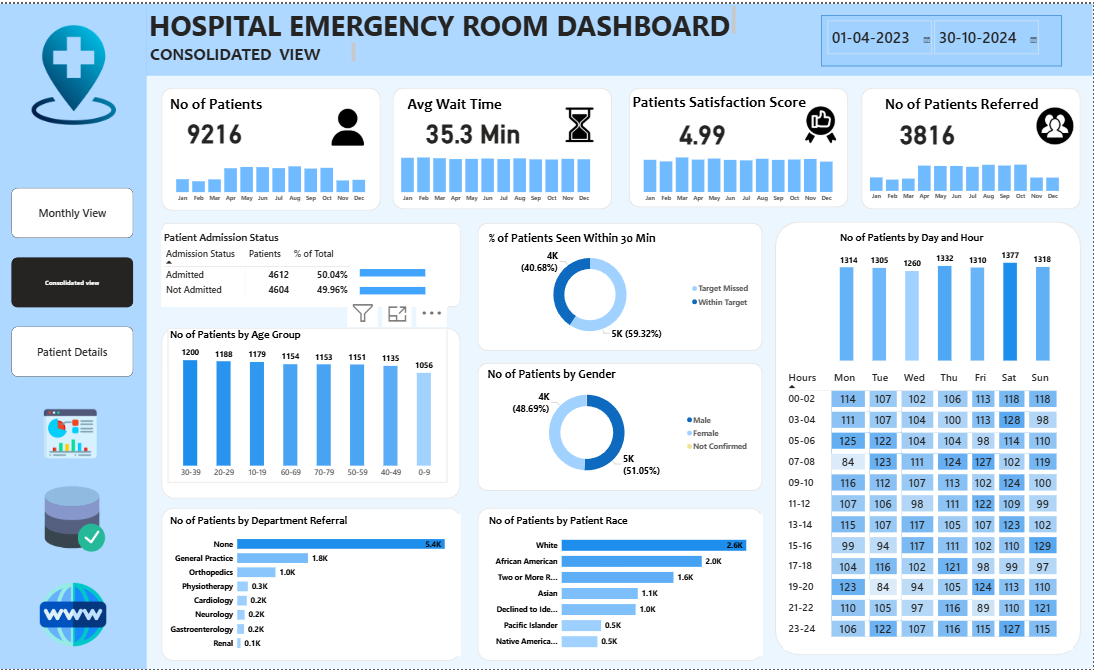

The page's visual inventory and layout, read from the dashboard file:
{"tool":"powerbi","page":{"name":"Consolidated view","canvas":[2300,1400],"ordinal":1},"visuals":[{"type":"shape","box":[338.8,461.2,630.6,177.6],"z":0},{"type":"shape","box":[338.8,175.5,462,259],"z":1000},{"type":"card","fields":{"Values":["Hospital ER_Data.No of Patients"]},"box":[298,206.1,308.2,124.5],"z":2000},{"type":"shape","box":[0,0,309.1,1400.7],"z":3000},{"type":"shape","box":[308.2,0,1991.8,151],"z":4000},{"type":"textbox","box":[309.1,0,1245.9,76.1],"z":5000},{"type":"textbox","box":[310,77.5,442.5,52.5],"z":6000},{"type":"slicer","fields":{"Values":["Date Table.Date"]},"box":[1728.6,23.8,506.5,107],"z":7000},{"type":"textbox","box":[353.1,187.8,334.7,53.1],"z":9000},{"type":"columnChart","fields":{"Category":["Date Table.Month Name"],"Y":["Hospital ER_Data.No of Patients"]},"box":[351.9,302,435.1,123.6],"z":10000},{"type":"shape","box":[827.2,176,462,256],"z":12000},{"type":"shape","box":[1324,176,462,252],"z":13000},{"type":"shape","box":[1814,176,462,256],"z":14000},{"type":"textbox","box":[851.7,187.5,382.5,80],"z":15000},{"type":"columnChart","fields":{"Category":["Date Table.Month Name"],"Y":["Avg(Hospital ER_Data.Patient Waittime)"]},"box":[827.5,302,435.1,123.6],"z":16000},{"type":"columnChart","fields":{"Category":["Date Table.Month Name"],"Y":["Hospital ER_Data.Satisfaction Score"]},"box":[1336.3,299.6,435.1,126],"z":17000},{"type":"columnChart","fields":{"Category":["Date Table.Month Name"],"Y":["Hospital ER_Data.No of Patients Referred"]},"box":[1814.2,299.6,435.1,123.6],"z":18000},{"type":"textbox","box":[1327.5,182.5,400,52.5],"z":19000},{"type":"textbox","box":[1857.5,187.5,405,52.5],"z":20000},{"type":"card","fields":{"Values":["Hospital ER_Data.Avg Wait Time"]},"box":[842.5,205,307.5,122.5],"z":21000},{"type":"card","fields":{"Values":["Hospital ER_Data.Satisfaction Score"]},"box":[1324.7,208.2,310,122.5],"z":22000},{"type":"card","fields":{"Values":["Hospital ER_Data.No of Patients Referred"]},"box":[1797.5,207.5,310,122.5],"z":23000},{"type":"pivotTable","title":"Patient Admission Status","fields":{"Rows":["Hospital ER_Data.Admission Status"],"Values":["Hospital ER_Data.No of Patients1","Hospital ER_Data.No of Patients"]},"box":[338.8,477.6,604.1,161.2],"z":24000},{"type":"barChart","fields":{"Y":["Hospital ER_Data.No of Patients"],"Category":["Hospital ER_Data.Admission Status"]},"box":[753.1,526.5,189.8,112.2],"z":25000},{"type":"shape","box":[340,682.5,630,360],"z":26000},{"type":"clusteredColumnChart","fields":{"Category":["Hospital ER_Data.Age Group"],"Y":["Hospital ER_Data.No of Patients"]},"box":[353.1,681.6,589.8,326.5],"z":27000},{"type":"shape","box":[1005,460,600,270],"z":28000},{"type":"donutChart","title":"% of Patients Seen Within 30 Min","fields":{"Category":["Hospital ER_Data.Waittime Status"],"Y":["Hospital ER_Data.No of Patients"]},"box":[1022.5,475,565,240],"z":29000},{"type":"shape","box":[1005,755,600,270],"z":30000},{"type":"donutChart","title":"No of Patients by Gender","fields":{"Y":["Hospital ER_Data.No of Patients"],"Category":["Hospital ER_Data.Patient Gender"]},"box":[1020,763.3,565.9,247.3],"z":31000},{"type":"shape","box":[340,1060,630,322.5],"z":32000},{"type":"clusteredBarChart","fields":{"Y":["Hospital ER_Data.No of Patients"],"Category":["Hospital ER_Data.Department Referral"]},"box":[352.5,1072.5,617.5,300],"z":33000},{"type":"shape","box":[1005,1060,600,322.5],"z":34000},{"type":"clusteredBarChart","fields":{"Y":["Hospital ER_Data.No of Patients"],"Category":["Hospital ER_Data.Patient Race"]},"box":[1022.5,1072.5,582.5,300],"z":35000},{"type":"shape","box":[1631.1,458.9,644.4,913],"z":36000},{"type":"pivotTable","fields":{"Rows":["Hospital ER_Data.Waittime Interval"],"Columns":["Date Table.Day Name"],"Values":["Hospital ER_Data.No of Patients"]},"box":[1650.1,763.3,608.7,596.8],"z":37000},{"type":"columnChart","title":"No of Patients by Day and Hour","fields":{"Category":["Date Table.Day Name"],"Y":["Hospital ER_Data.No of Patients"]},"box":[1764.3,475.5,454.1,280.6],"z":38000},{"type":"image","box":[5,40,300,220],"z":39000},{"type":"pageNavigator","box":[22.5,387.5,257.5,400],"z":39001},{"type":"image","box":[32.5,845,232.5,120],"z":39002},{"type":"image","box":[80,1010,157.5,147.5],"z":39003},{"type":"image","box":[80,1210,150,150],"z":39004},{"type":"image","box":[2142.5,212.5,157.5,87.5],"z":39006},{"type":"image","box":[1647.5,210,160,87.5],"z":39007},{"type":"image","box":[1180,212.5,82.5,82.5],"z":39008},{"type":"image","box":[687.5,215,90,87.5],"z":39009}]}

Visuals, with their boxes in screenshot pixels (x1, y1, x2, y2), scaled from the page's 2300x1400 canvas onto the 1094x670 screenshot:
shape: x1=161, y1=221, x2=461, y2=306
shape: x1=161, y1=84, x2=381, y2=208
card - Hospital ER_Data.No of Patients: x1=142, y1=99, x2=288, y2=158
shape: x1=0, y1=0, x2=147, y2=669
shape: x1=147, y1=0, x2=1093, y2=72
textbox: x1=147, y1=0, x2=740, y2=36
textbox: x1=147, y1=37, x2=358, y2=62
slicer - Date Table.Date: x1=822, y1=11, x2=1063, y2=63
textbox: x1=168, y1=90, x2=327, y2=115
columnChart - Date Table.Month Name x Hospital ER_Data.No of Patients: x1=167, y1=145, x2=374, y2=204
shape: x1=393, y1=84, x2=613, y2=207
shape: x1=630, y1=84, x2=850, y2=205
shape: x1=863, y1=84, x2=1083, y2=207
textbox: x1=405, y1=90, x2=587, y2=128
columnChart - Date Table.Month Name x Avg(Hospital ER_Data.Patient Waittime): x1=394, y1=145, x2=601, y2=204
columnChart - Date Table.Month Name x Hospital ER_Data.Satisfaction Score: x1=636, y1=143, x2=843, y2=204
columnChart - Date Table.Month Name x Hospital ER_Data.No of Patients Referred: x1=863, y1=143, x2=1070, y2=203
textbox: x1=631, y1=87, x2=822, y2=112
textbox: x1=884, y1=90, x2=1076, y2=115
card - Hospital ER_Data.Avg Wait Time: x1=401, y1=98, x2=547, y2=157
card - Hospital ER_Data.Satisfaction Score: x1=630, y1=100, x2=778, y2=158
card - Hospital ER_Data.No of Patients Referred: x1=855, y1=99, x2=1002, y2=158
"Patient Admission Status" pivotTable: x1=161, y1=229, x2=448, y2=306
barChart - Hospital ER_Data.No of Patients x Hospital ER_Data.Admission Status: x1=358, y1=252, x2=448, y2=306
shape: x1=162, y1=327, x2=461, y2=499
clusteredColumnChart - Hospital ER_Data.Age Group x Hospital ER_Data.No of Patients: x1=168, y1=326, x2=448, y2=482
shape: x1=478, y1=220, x2=763, y2=349
"% of Patients Seen Within 30 Min" donutChart: x1=486, y1=227, x2=755, y2=342
shape: x1=478, y1=361, x2=763, y2=491
"No of Patients by Gender" donutChart: x1=485, y1=365, x2=754, y2=484
shape: x1=162, y1=507, x2=461, y2=662
clusteredBarChart - Hospital ER_Data.No of Patients x Hospital ER_Data.Department Referral: x1=168, y1=513, x2=461, y2=657
shape: x1=478, y1=507, x2=763, y2=662
clusteredBarChart - Hospital ER_Data.No of Patients x Hospital ER_Data.Patient Race: x1=486, y1=513, x2=763, y2=657
shape: x1=776, y1=220, x2=1082, y2=657
pivotTable - Hospital ER_Data.Waittime Interval x Date Table.Day Name: x1=785, y1=365, x2=1074, y2=651
"No of Patients by Day and Hour" columnChart: x1=839, y1=228, x2=1055, y2=362
image: x1=2, y1=19, x2=145, y2=124
pageNavigator: x1=11, y1=185, x2=133, y2=377
image: x1=15, y1=404, x2=126, y2=462
image: x1=38, y1=483, x2=113, y2=554
image: x1=38, y1=579, x2=109, y2=651
image: x1=1019, y1=102, x2=1093, y2=144
image: x1=784, y1=100, x2=860, y2=142
image: x1=561, y1=102, x2=601, y2=141
image: x1=327, y1=103, x2=370, y2=145
